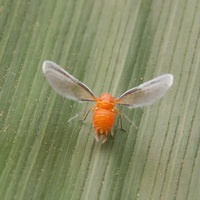insect: (42, 61, 173, 142)
